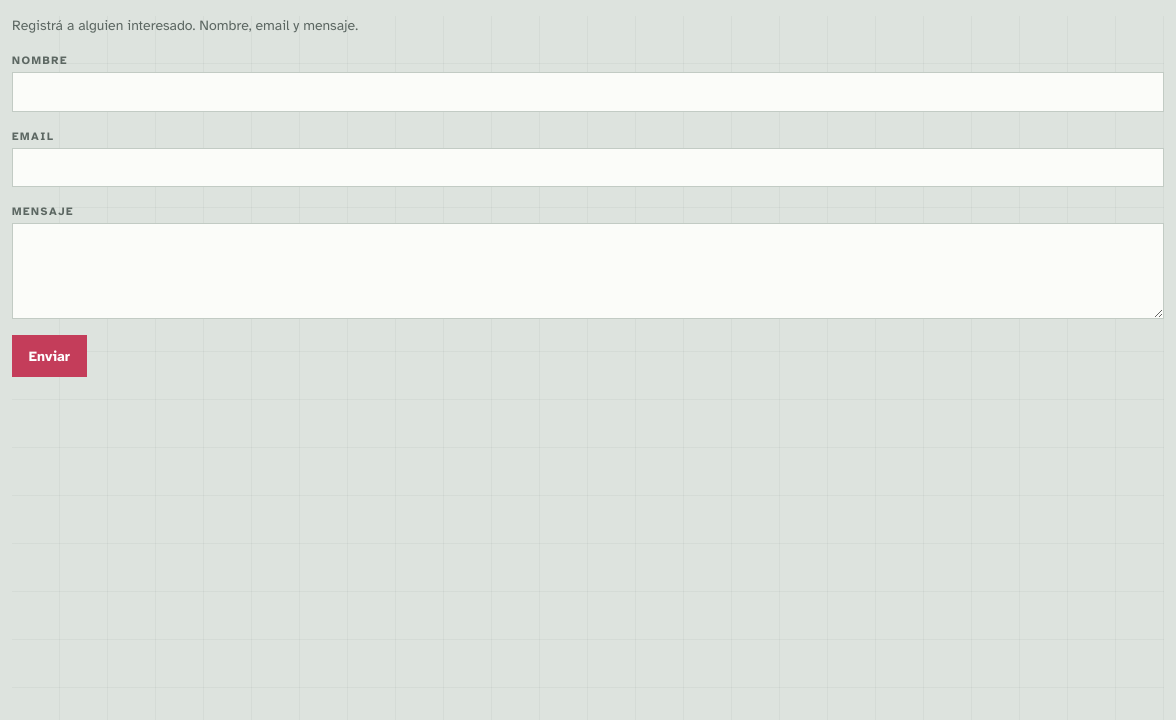
Test: DepartmentInquiryForm › muestra errores si se envía vacío
This screenshot has width=1176, height=720.
Click the button "Enviar": (49, 356) [12, 335, 87, 377]
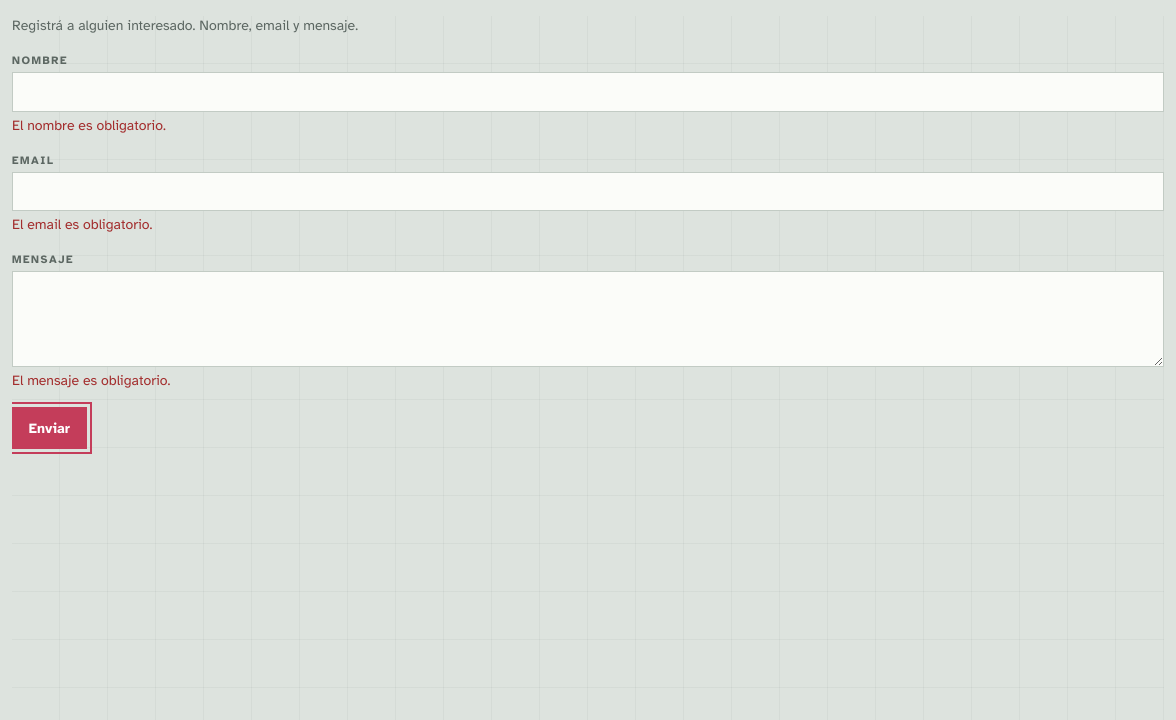
Expected: the text "El nombre es obligatorio." is shown, [12, 117, 166, 134]
Expected: the text "El email es obligatorio." is shown, [12, 216, 152, 233]
Expected: the text "El mensaje es obligatorio." is shown, [12, 372, 170, 389]
